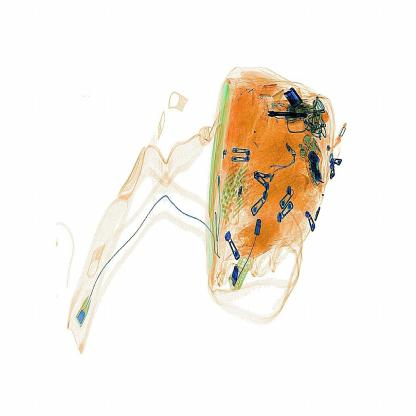knife: (262, 102, 314, 127)
